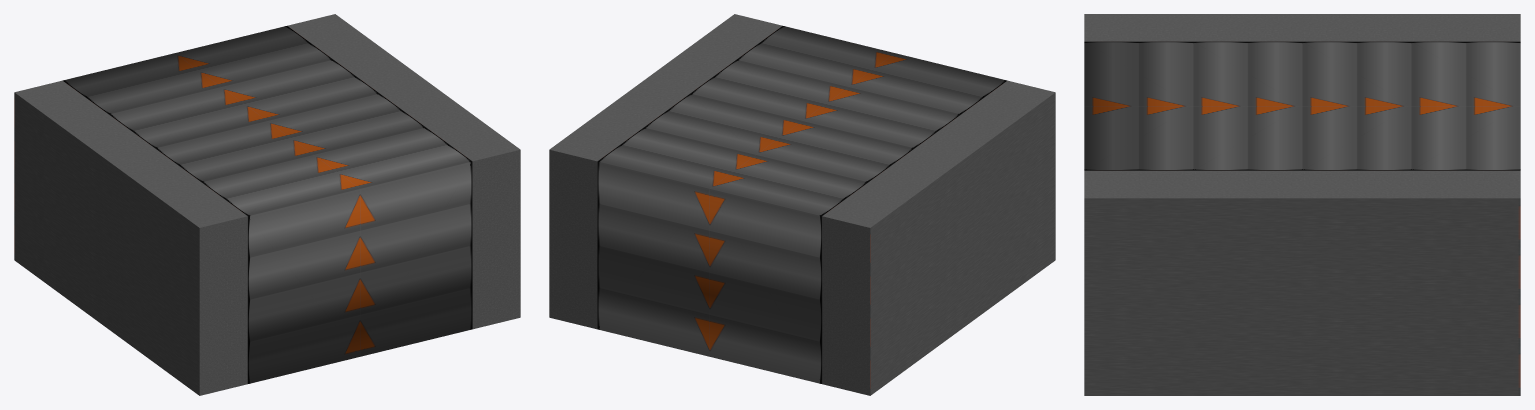
The model's file is Conveyor.obj.
The picture shows the model from 3 angles, left to right: view 1: azimuth 30°, elevation 25°; view 2: azimuth 150°, elevation 25°; view 3: azimuth 270°, elevation 25°; orthographic projection. The views are drawn at different scales.
Visible parts, largest first — view 1: Cube; view 2: Cube; view 3: Cube.
Part boxes in pixels (x1,y1,x2,y2): Cube: (14, 14, 520, 395); Cube: (549, 14, 1055, 395); Cube: (1084, 14, 1520, 395).
Size of the model in its own units: 2 by 1 by 2.
